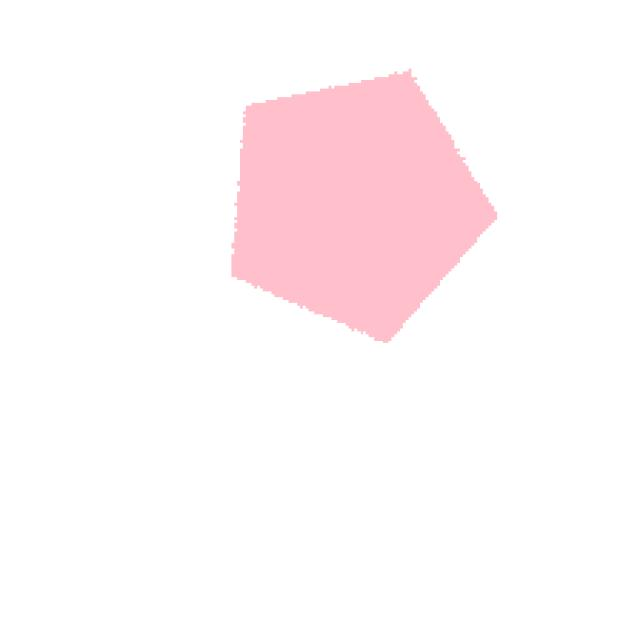Pentagon: (180, 41, 520, 383)
